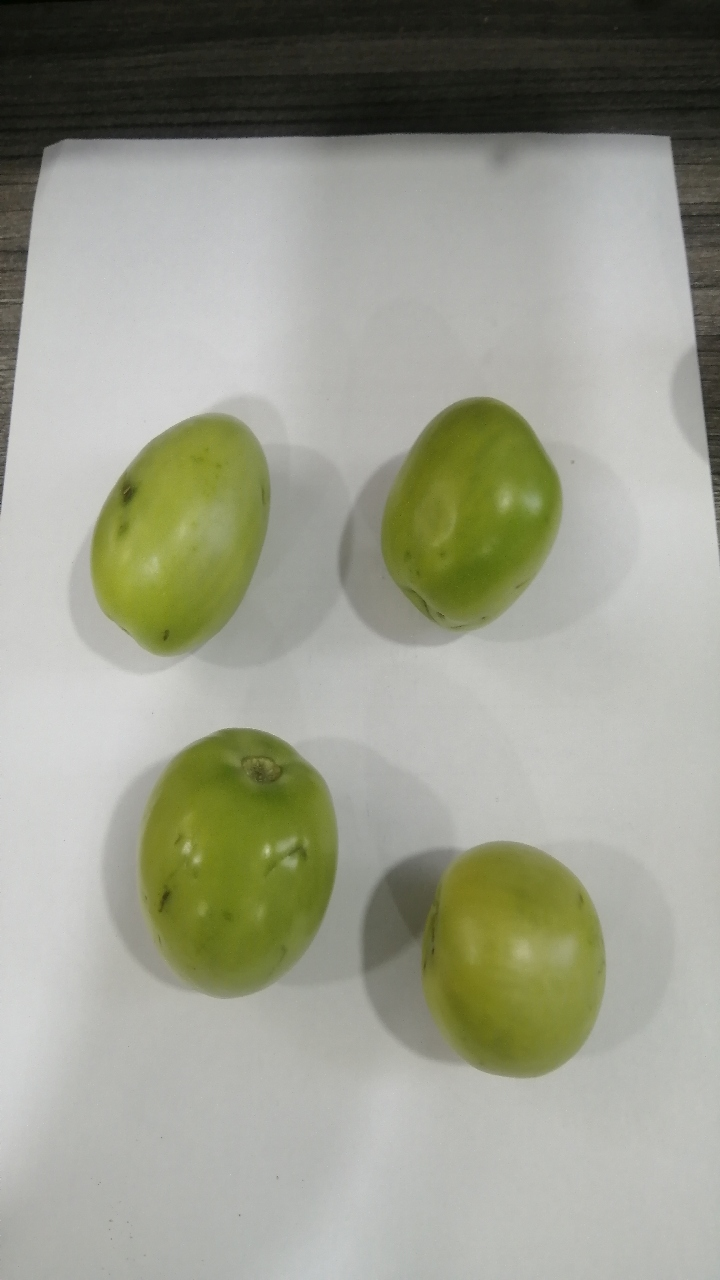tomateVerde: (115, 712, 361, 1020), (358, 383, 597, 651), (78, 383, 284, 672), (404, 826, 615, 1102)
